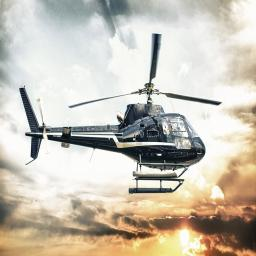helicopter: (17, 32, 226, 198)
